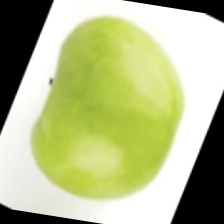apple: (38, 52, 179, 202)
